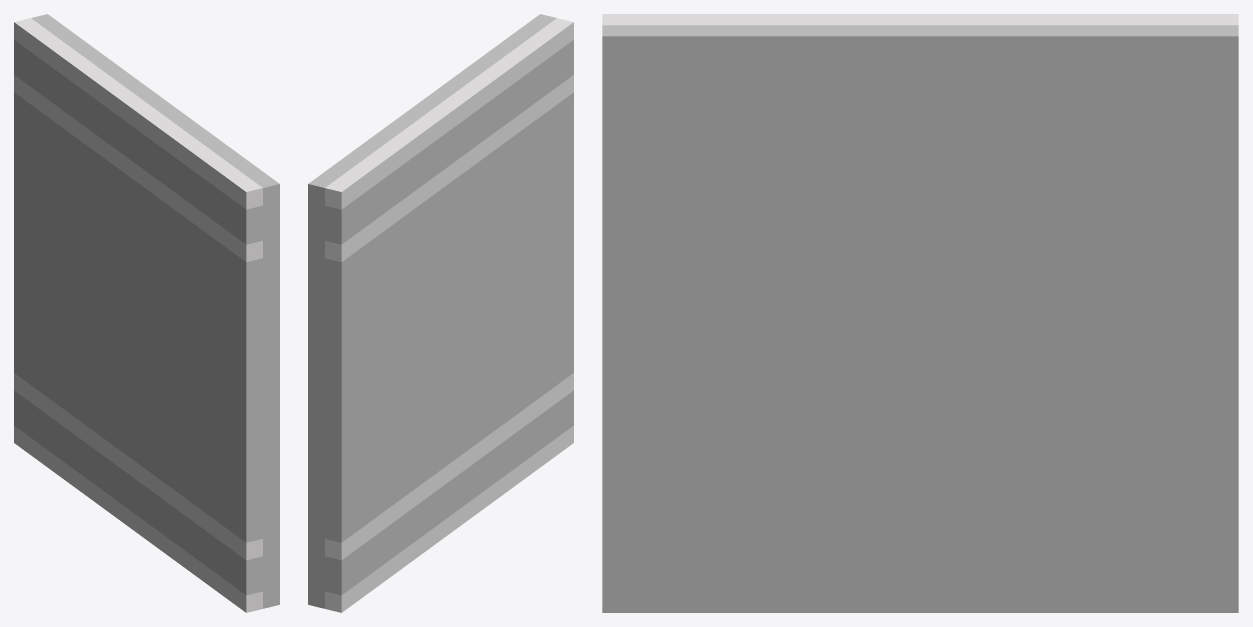
The model's file is Wall1.obj.
3 views of the same model, side by side, from view 1: azimuth 30°, elevation 25°; view 2: azimuth 150°, elevation 25°; view 3: azimuth 270°, elevation 25° (orthographic). The views are drawn at different scales.
Bounding box in the file's own units: 0.2 × 2.4 × 2.4.
Materials: 1 (1 with a texture image).
